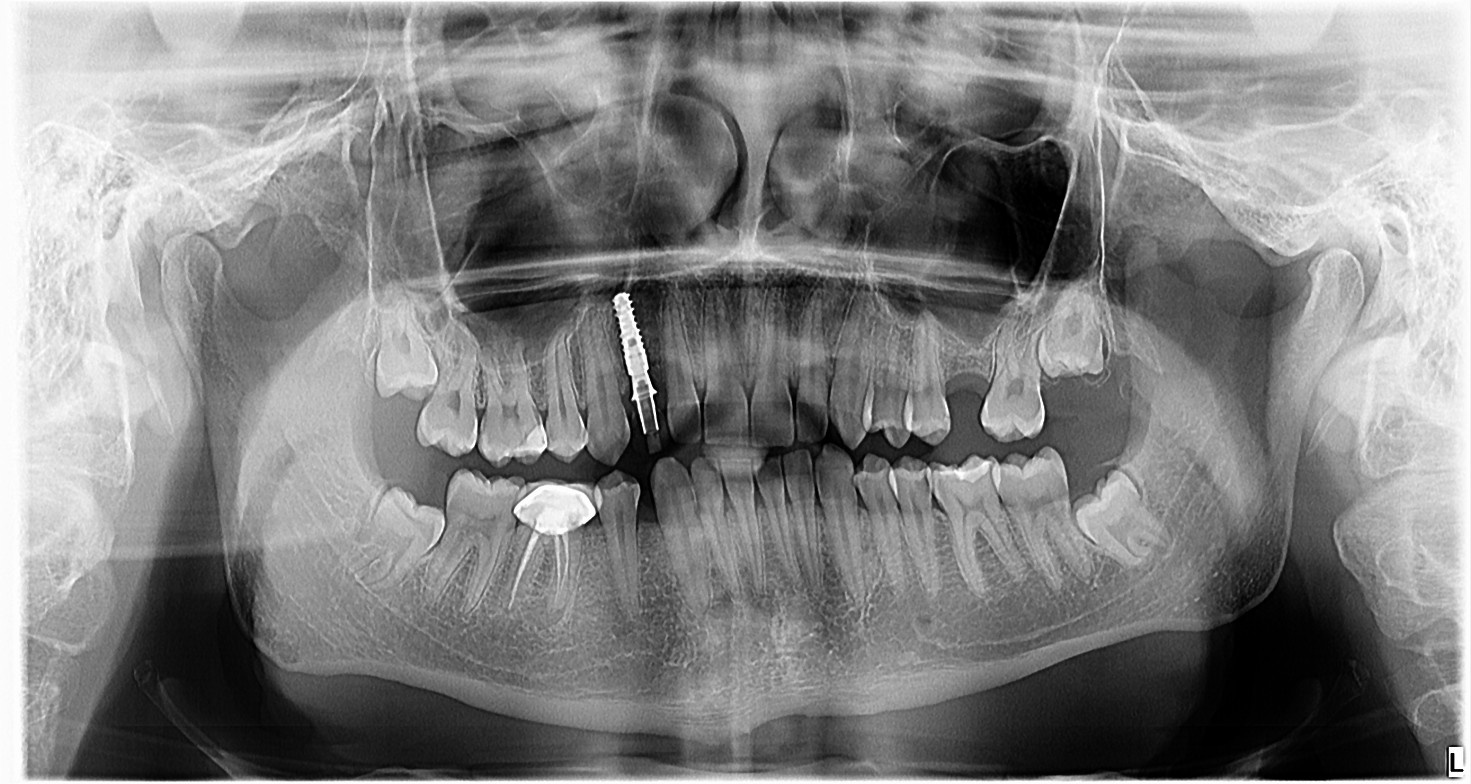CAR: (911, 461, 953, 502)
END: (503, 529, 579, 624)
IMP: (610, 289, 658, 398)
IMT: (336, 479, 445, 606), (1067, 461, 1176, 569), (1033, 277, 1114, 384), (373, 282, 439, 405)
OBT: (507, 415, 554, 471)
PRR: (510, 479, 605, 534)
